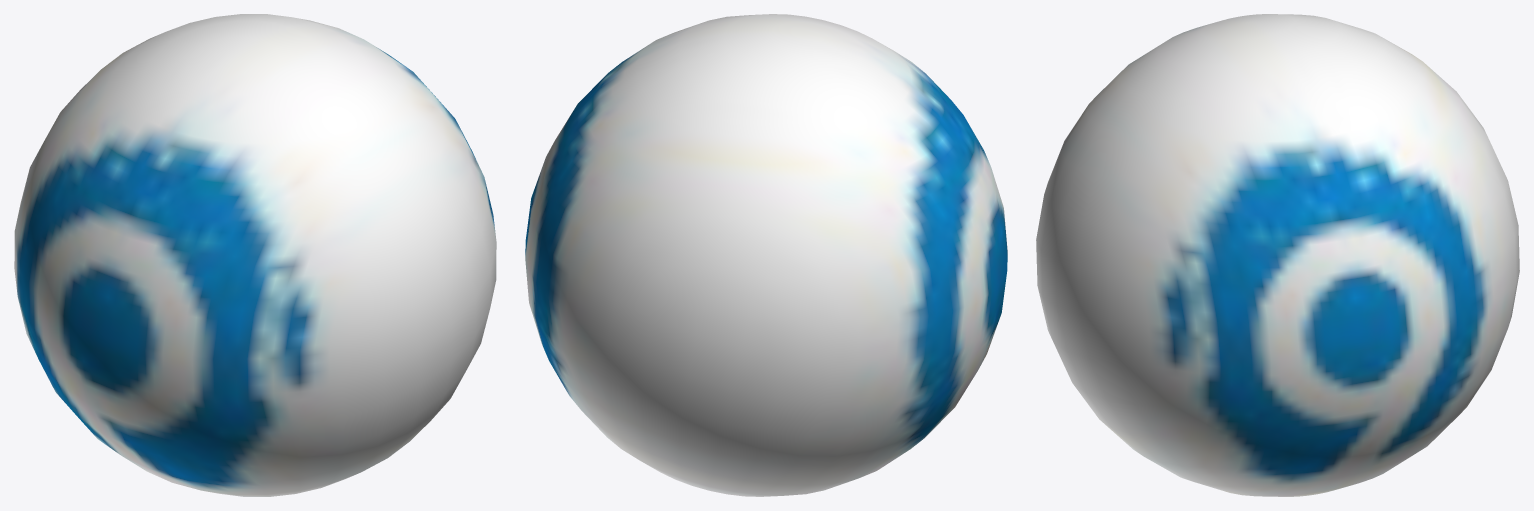
File: PR_communication.glb
The picture shows the model from 3 angles, left to right: view 1: azimuth 30°, elevation 25°; view 2: azimuth 150°, elevation 25°; view 3: azimuth 270°, elevation 25°; orthographic projection.
Parts seen in each view (by area): view 1: PR Communication; view 2: PR Communication; view 3: PR Communication.
Boxes of the visible parts, box(x1,y1,x2,y2) form: PR Communication: box(14, 14, 496, 496); PR Communication: box(525, 14, 1007, 496); PR Communication: box(1036, 14, 1519, 496).
Bounding box in the file's own units: 5.65 × 5.65 × 5.64.
1 material, 1 textured.
